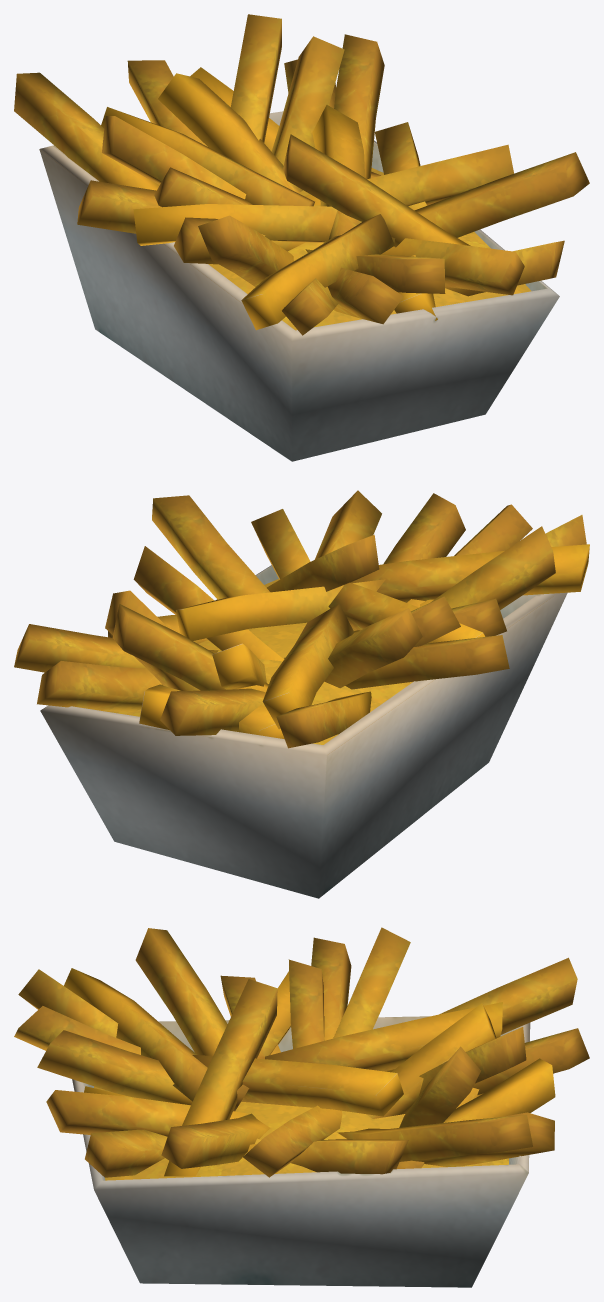
Rendered from frenchFries.fbx.
The picture shows the model from 3 angles, top to bottom: view 1: azimuth 30°, elevation 25°; view 2: azimuth 150°, elevation 25°; view 3: azimuth 270°, elevation 25°; orthographic projection. The views are drawn at different scales.
Visible parts, largest first — view 1: frenchFries; view 2: frenchFries; view 3: frenchFries.
Boxes of the visible parts, box(x1,y1,x2,y2) form: frenchFries: box(14, 14, 589, 461); frenchFries: box(14, 490, 589, 898); frenchFries: box(14, 927, 589, 1287).
Size of the model in its own units: 384 by 220 by 468.
1 material, 1 textured.
